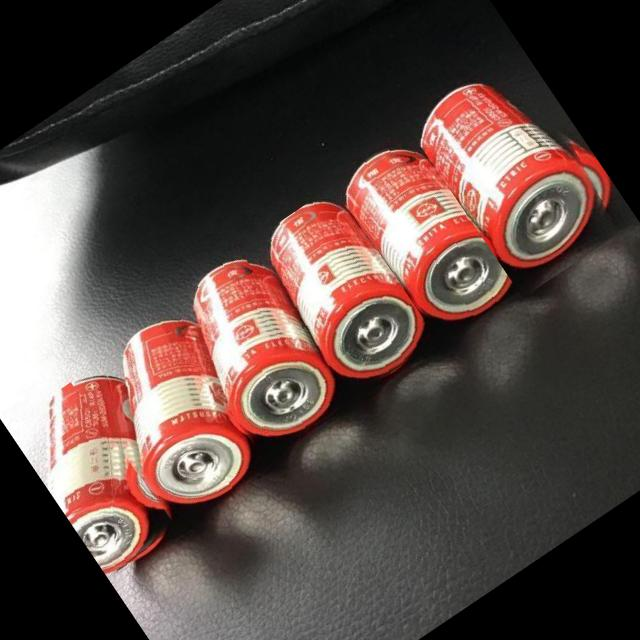Hazard: (404, 43, 638, 298), (68, 297, 292, 534), (328, 113, 539, 344), (152, 240, 362, 468), (6, 354, 216, 580), (238, 185, 441, 408)
